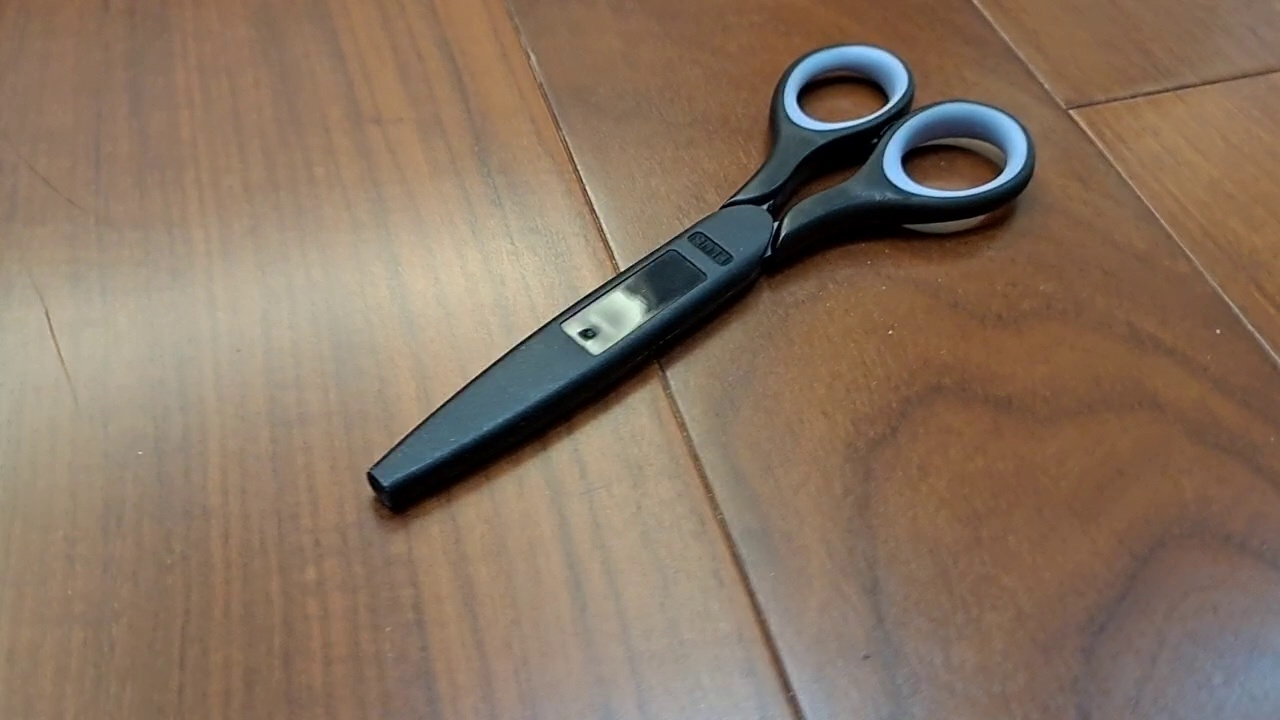scissors: (365, 41, 1037, 516)
